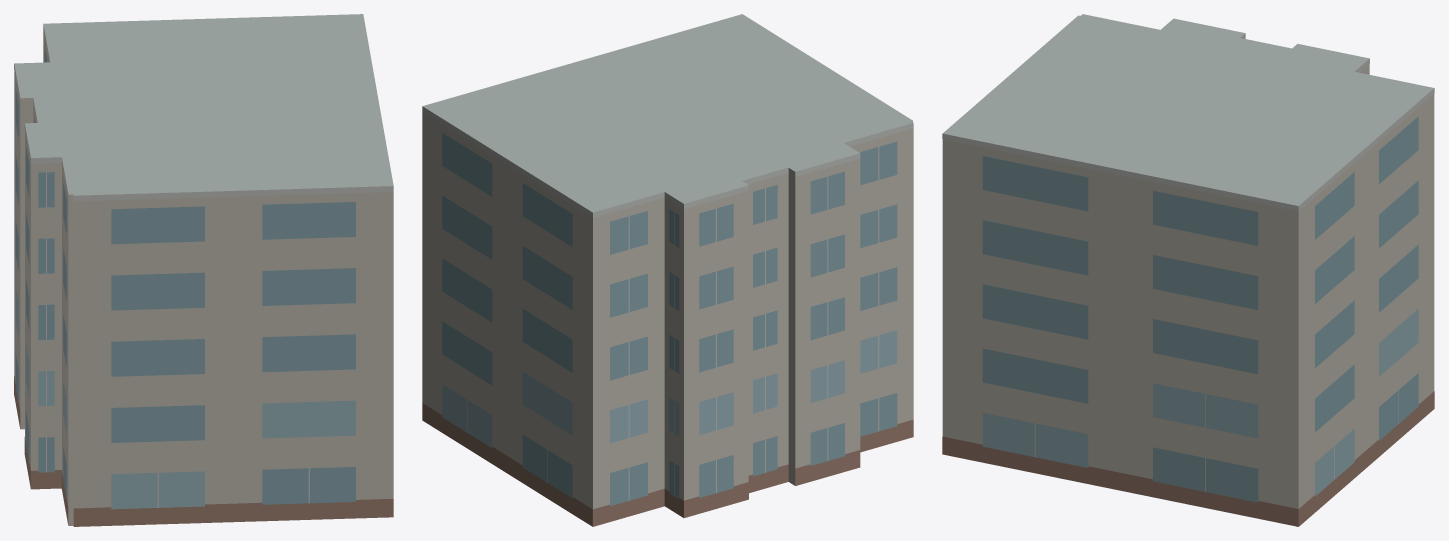
Rendered from survey-upis-32730101.glb.
3 views of the same model, side by side, from view 1: azimuth 30°, elevation 25°; view 2: azimuth 150°, elevation 25°; view 3: azimuth 270°, elevation 25° (orthographic). The views are drawn at different scales.
Visible parts, largest first — view 1: survey-upis-32730101.tmp; view 2: survey-upis-32730101.tmp; view 3: survey-upis-32730101.tmp.
Part boxes in pixels (left/top/right/bottom): survey-upis-32730101.tmp: left=14, top=14, right=393, bottom=526; survey-upis-32730101.tmp: left=422, top=14, right=913, bottom=526; survey-upis-32730101.tmp: left=942, top=14, right=1434, bottom=526.
Bounding box in the file's own units: 18.24 × 14.2 × 19.74.
